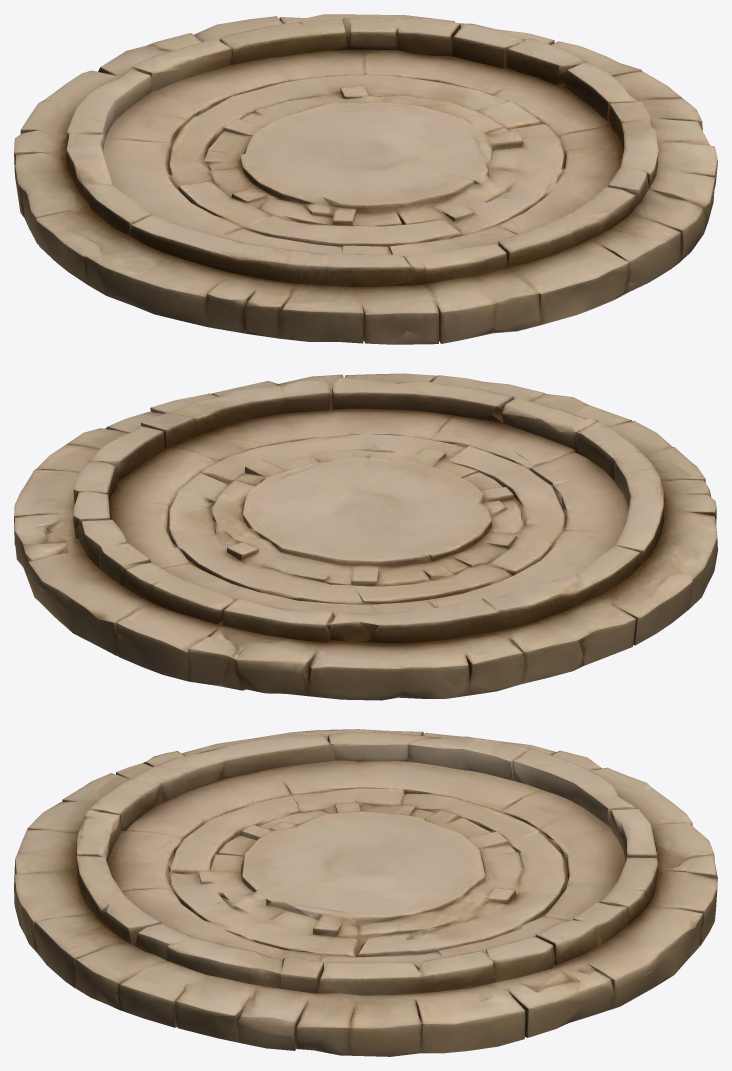
The model's file is m2GongStage.glb.
The picture shows the model from 3 angles, top to bottom: view 1: azimuth 30°, elevation 25°; view 2: azimuth 150°, elevation 25°; view 3: azimuth 270°, elevation 25°; orthographic projection.
Visible parts, largest first — view 1: model; view 2: model; view 3: model.
Part boxes in pixels (bbox=[...]): model: bbox=[14, 14, 717, 344]; model: bbox=[14, 373, 717, 700]; model: bbox=[14, 729, 717, 1056].
Bounding box in the file's own units: 1.9 × 0.1686 × 1.89.
1 material, 1 textured.
